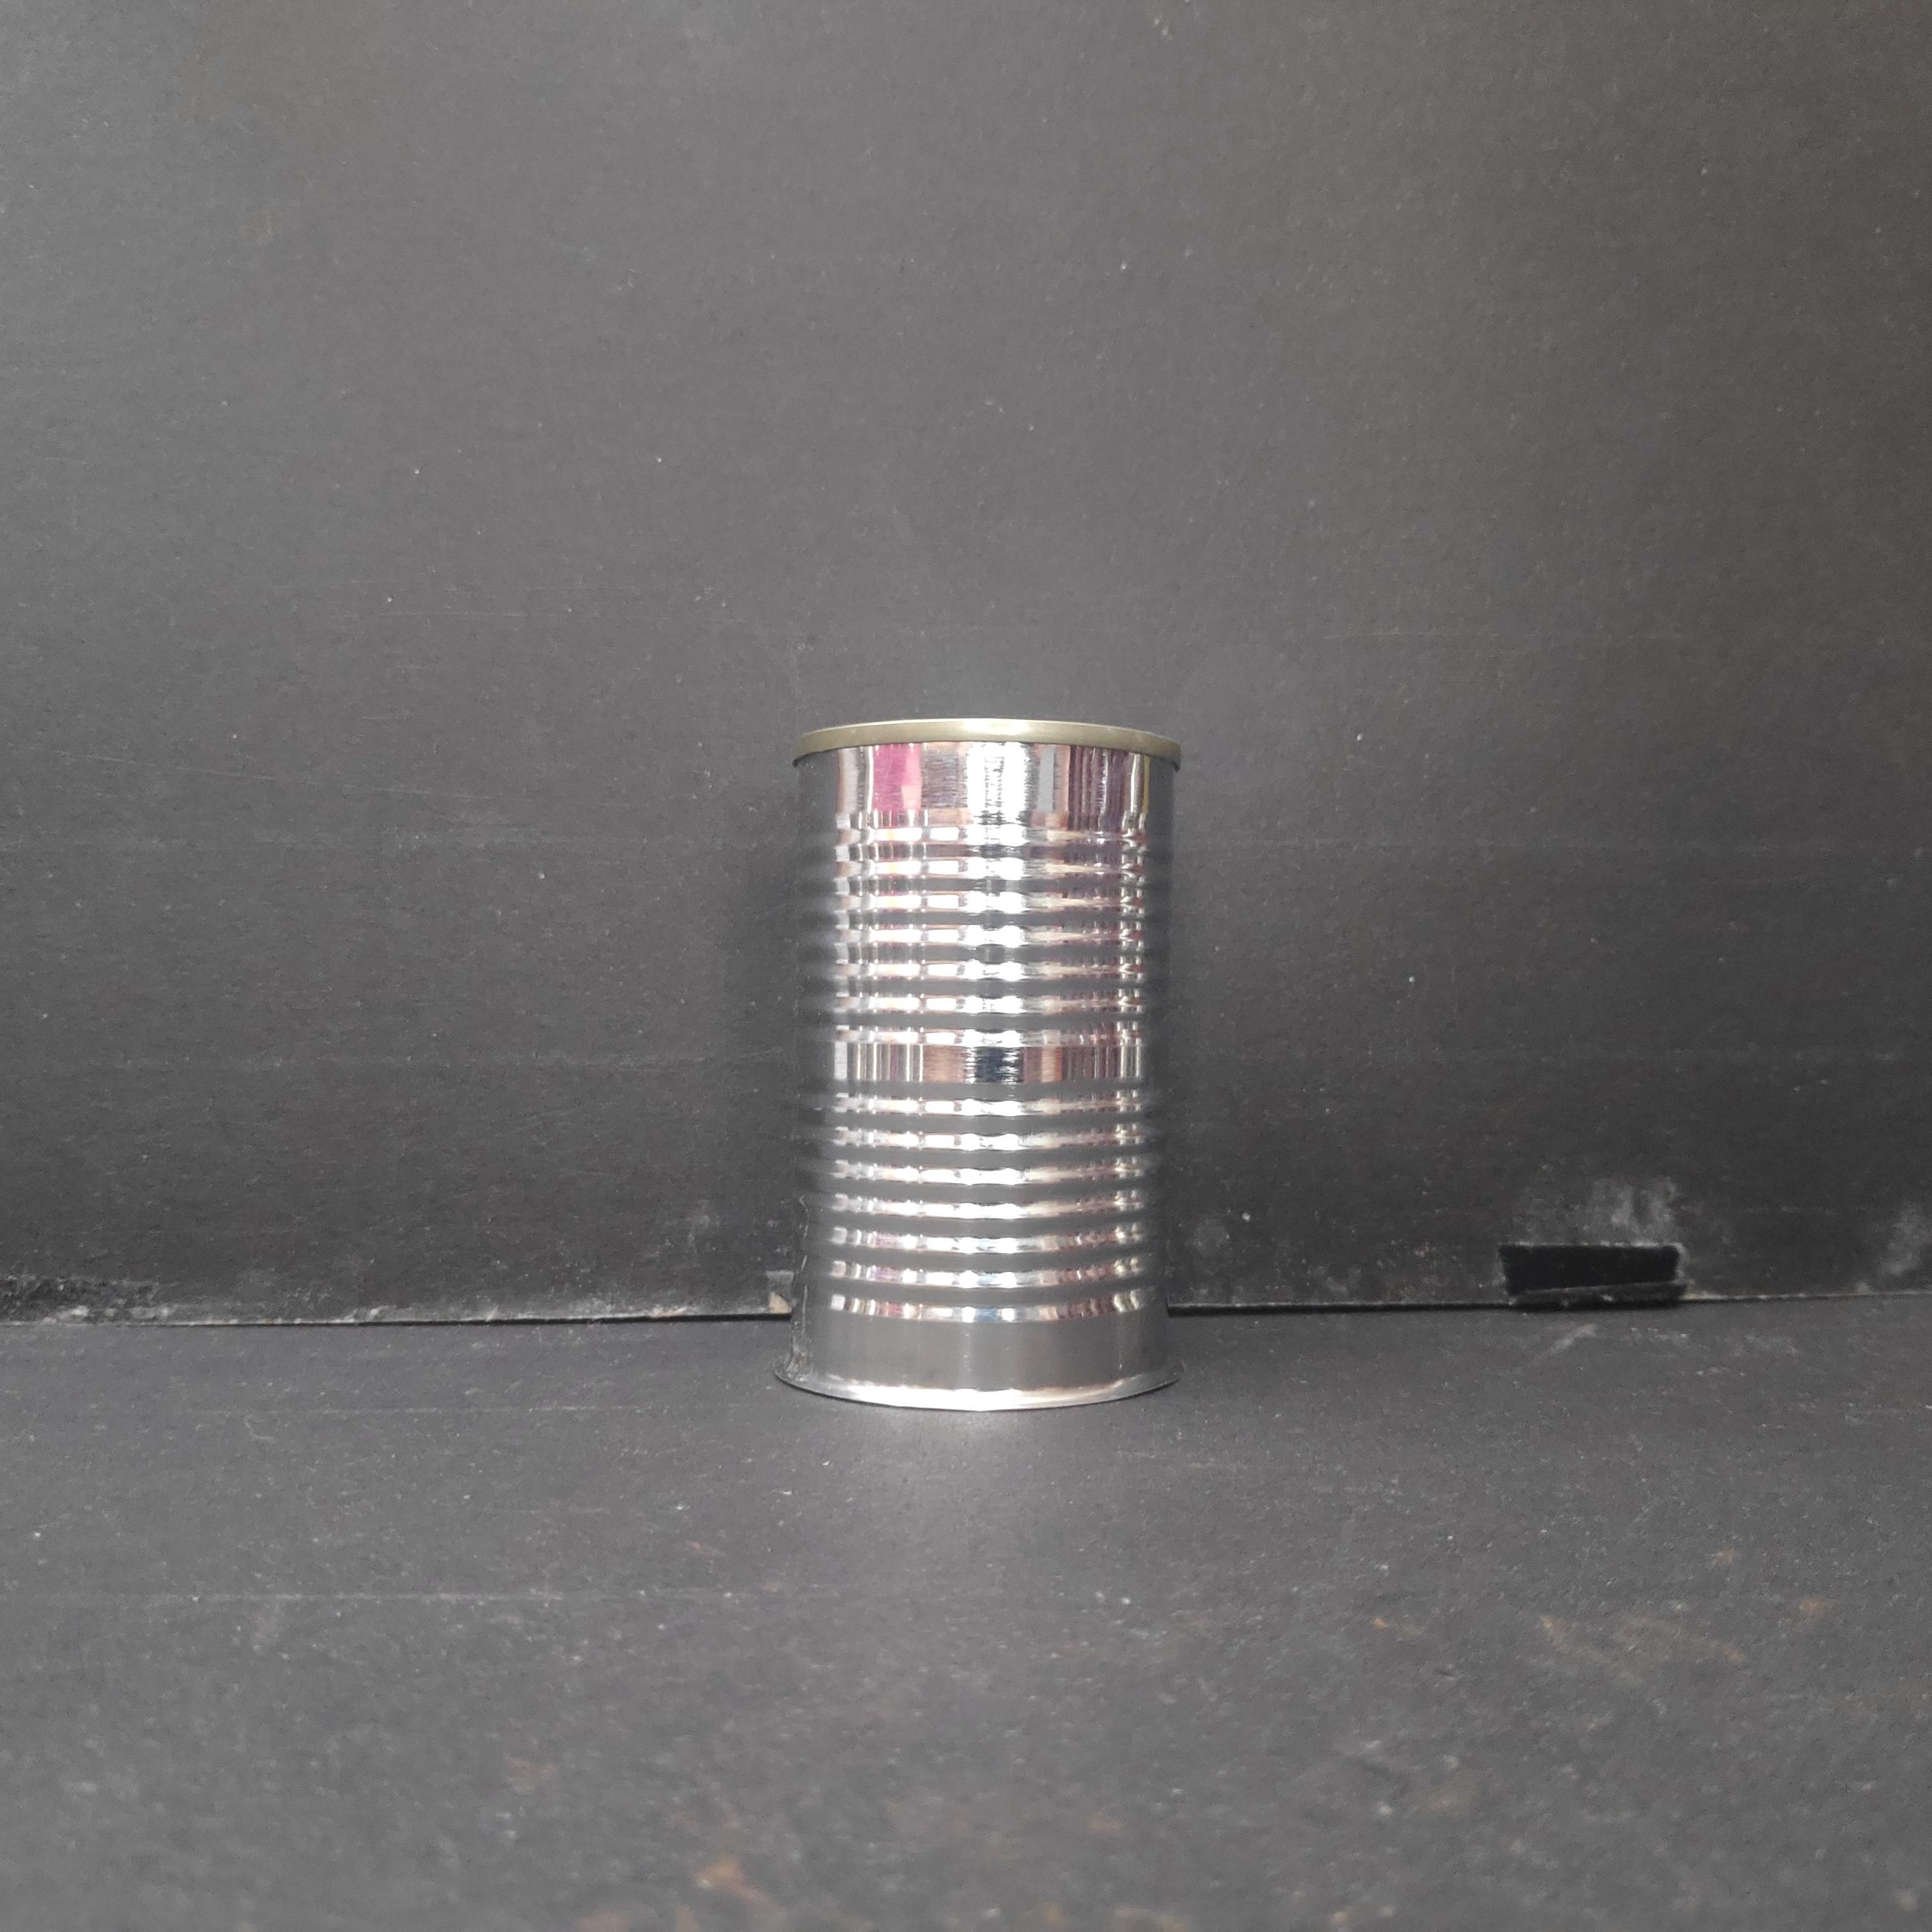No defect: (787, 713, 1191, 1428)
